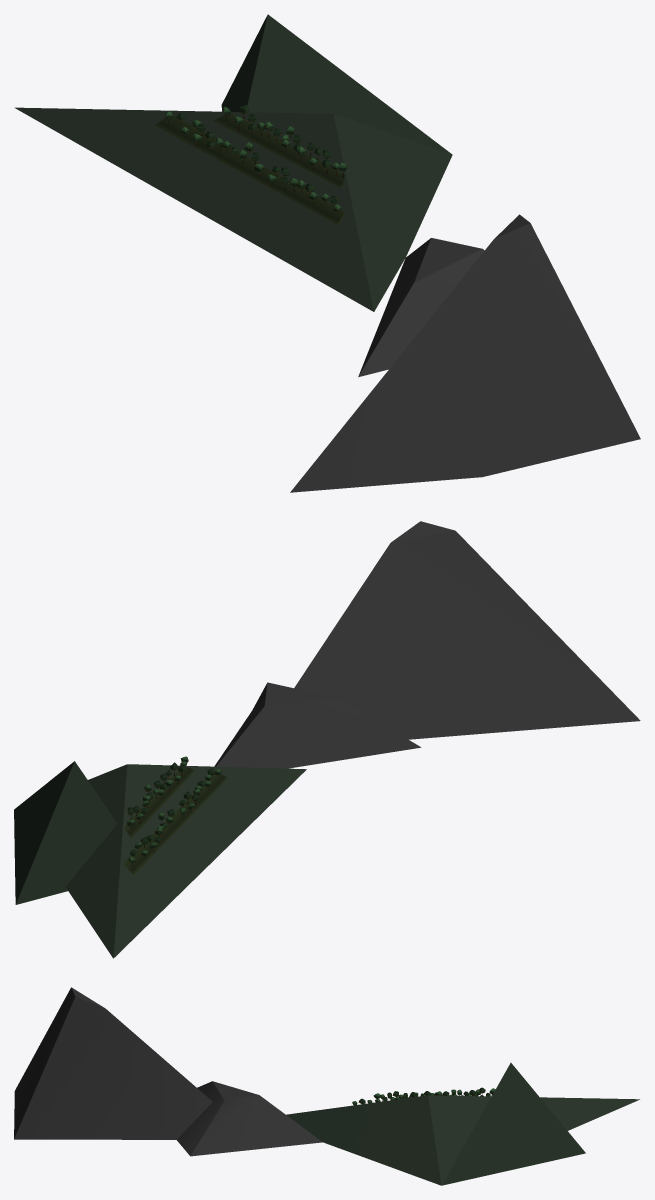
Rendered from c_worldsedge.fbx.
3 renders of one model, top to bottom at view 1: azimuth 30°, elevation 25°; view 2: azimuth 150°, elevation 25°; view 3: azimuth 270°, elevation 25°, orthographic. The views are drawn at different scales.
Parts seen in each view (by area): view 1: c_worldsedge; view 2: c_worldsedge; view 3: c_worldsedge.
Part boxes in pixels (left/top/right/bottom): c_worldsedge: left=14, top=14, right=640, bottom=492; c_worldsedge: left=14, top=521, right=640, bottom=958; c_worldsedge: left=14, top=987, right=639, bottom=1185.
Bounding box in the file's own units: 175 × 72.04 × 322.
